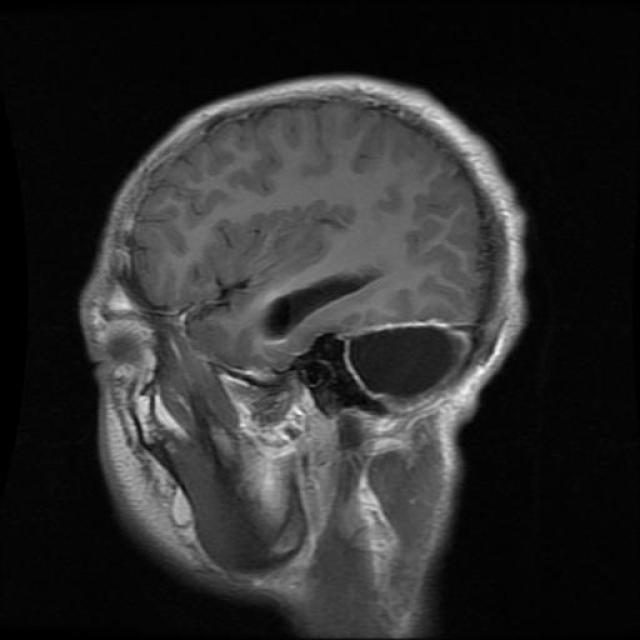brain_tumor: (349, 326, 464, 396), (265, 275, 378, 336)
